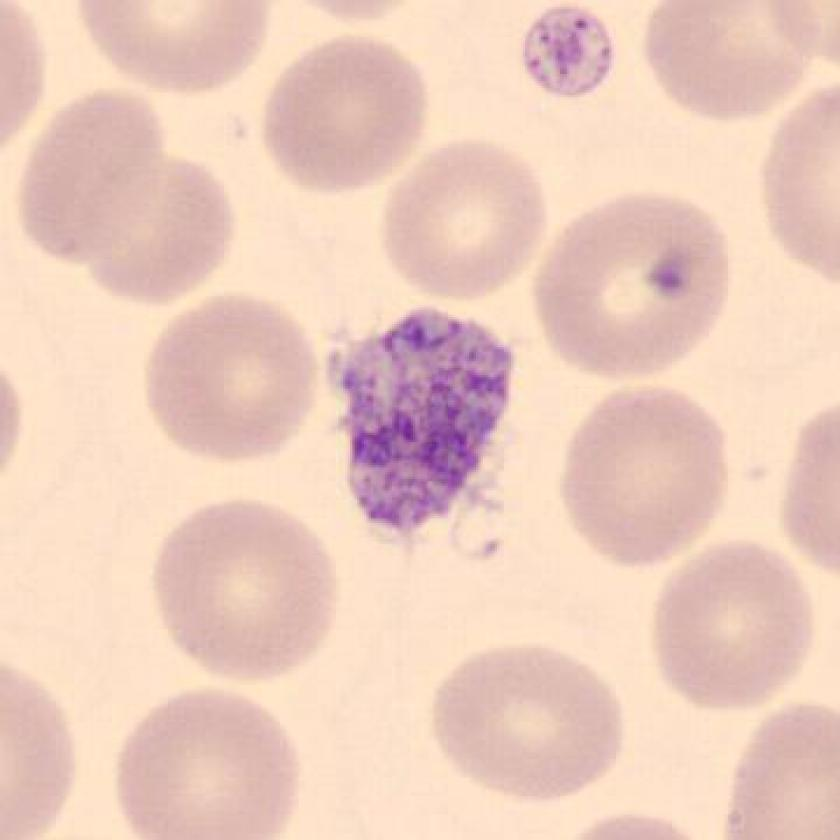platelets: (311, 288, 533, 556), (512, 1, 626, 110)
